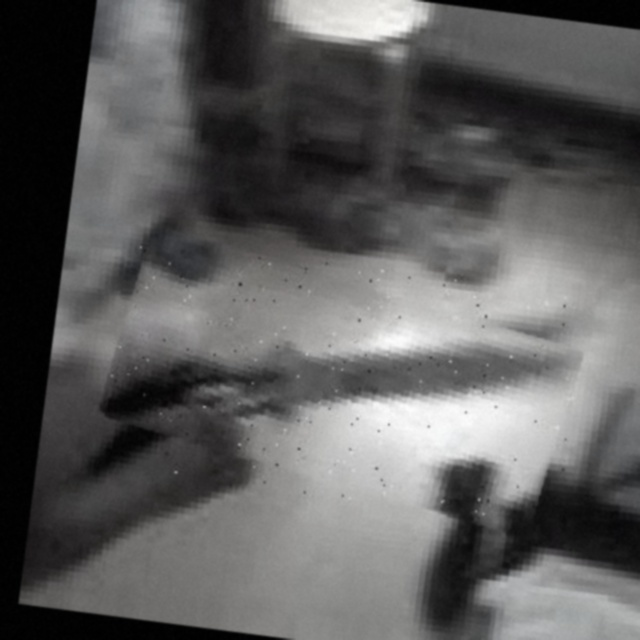Sharp-Object: (98, 238, 586, 527)
